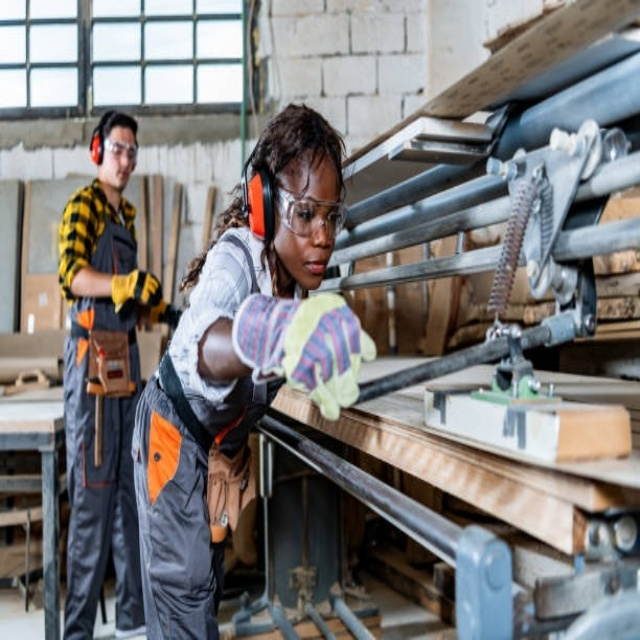Gafas: (274, 185, 348, 238), (104, 139, 138, 160)
Guantes: (230, 284, 378, 425), (109, 265, 164, 317)
Sin_mascara: (296, 248, 326, 282), (111, 162, 130, 190)
